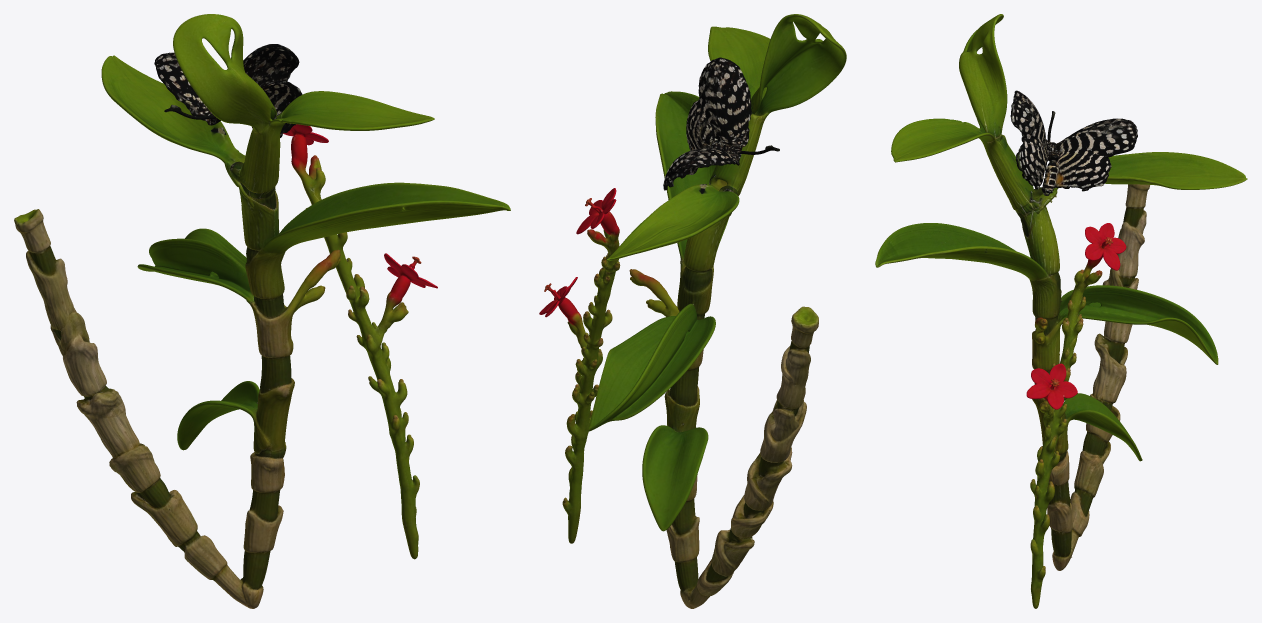
The model's file is ambiente_1.fbx.
The picture shows the model from 3 angles, left to right: view 1: azimuth 30°, elevation 25°; view 2: azimuth 150°, elevation 25°; view 3: azimuth 270°, elevation 25°; orthographic projection. The views are drawn at different scales.
Visible parts, largest first — view 1: tripo_node_5250d0da; view 2: tripo_node_5250d0da; view 3: tripo_node_5250d0da.
Part boxes in pixels (left/top/right/bottom): tripo_node_5250d0da: left=14, top=14, right=510, bottom=608; tripo_node_5250d0da: left=539, top=14, right=846, bottom=608; tripo_node_5250d0da: left=875, top=14, right=1247, bottom=608.
Bounding box in the file's own units: 66.53 × 115 × 74.57.
Materials: 1 (1 with a texture image).
